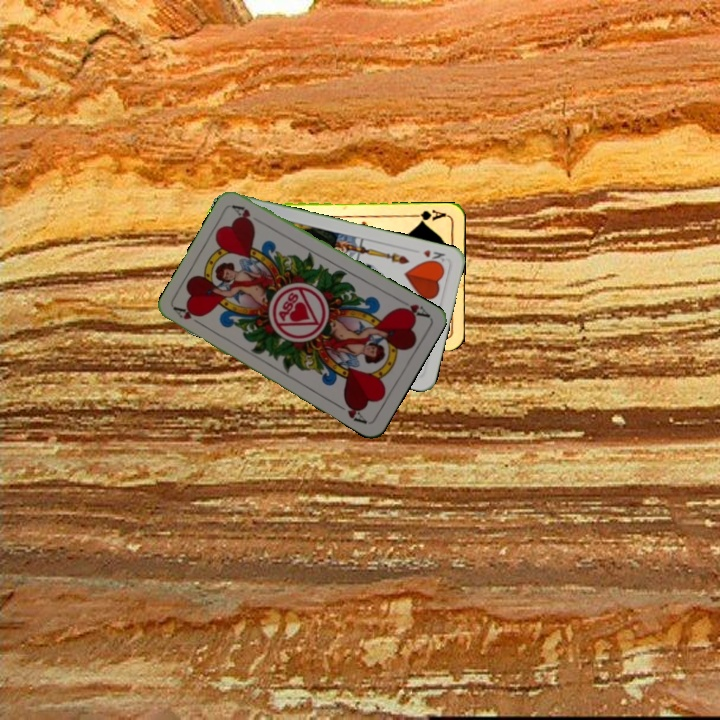GA: (408, 205, 449, 225)
HA: (171, 303, 208, 330), (394, 295, 432, 320)
HK: (419, 246, 448, 268)
